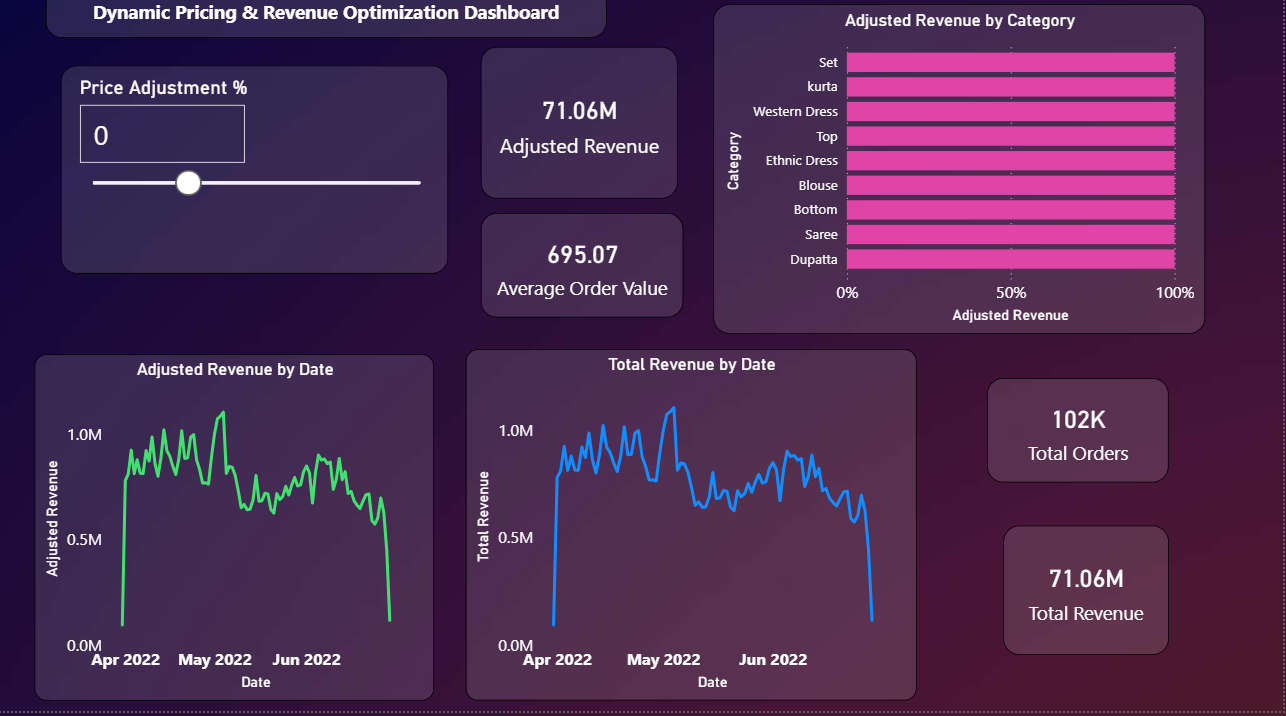

The dashboard page shown, as its layout file describes it:
{"tool":"powerbi","page":{"name":"Page 4","canvas":[1280,720],"ordinal":0},"visuals":[{"type":"textbox","box":[48,0,558.5,49.4],"z":0},{"type":"card","title":"Total Revenue","fields":{"Values":["dt clean.Total Revenue"]},"box":[1001.7,535.2,164.7,129],"z":1000},{"type":"card","fields":{"Values":["dt clean.Total Orders"]},"box":[985.3,388.3,181.1,104.3],"z":2000},{"type":"card","fields":{"Values":["dt clean.Average Order Value"]},"box":[481.6,223.7,201.7,104.3],"z":3000},{"type":"slicer","fields":{"Values":["Price Adjustment %.Price Adjustment %"]},"box":[63.1,76.8,385.6,207.2],"z":4000},{"type":"card","fields":{"Values":["dt clean.Adjusted Revenue"]},"box":[481.6,59,196.2,150.9],"z":5000},{"type":"lineChart","fields":{"Category":["DateTable1.Date"],"Y":["dt clean.Total Revenue"]},"box":[466.6,359.5,448.7,349.9],"z":6000},{"type":"lineChart","fields":{"Category":["dt clean.Date"],"Y":["dt clean.Adjusted Revenue"]},"box":[37,365,397.9,344.4],"z":7000},{"type":"hundredPercentStackedBarChart","fields":{"Category":["dt clean.Category"],"Y":["dt clean.Adjusted Revenue"]},"box":[712.2,16.5,489.9,328],"z":8000}]}

Visuals, with their boxes in screenshot pixels (x1, y1, x2, y2), scaled from the page's 1280x720 canvas onto the 1286x716 screenshot:
textbox: rect(48, 0, 609, 49)
"Total Revenue" card: rect(1006, 532, 1172, 661)
card - dt clean.Total Orders: rect(990, 386, 1172, 490)
card - dt clean.Average Order Value: rect(484, 222, 687, 326)
slicer - Price Adjustment %.Price Adjustment %: rect(63, 76, 451, 282)
card - dt clean.Adjusted Revenue: rect(484, 59, 681, 209)
lineChart - DateTable1.Date x dt clean.Total Revenue: rect(469, 358, 920, 705)
lineChart - dt clean.Date x dt clean.Adjusted Revenue: rect(37, 363, 437, 705)
hundredPercentStackedBarChart - dt clean.Category x dt clean.Adjusted Revenue: rect(716, 16, 1208, 343)
